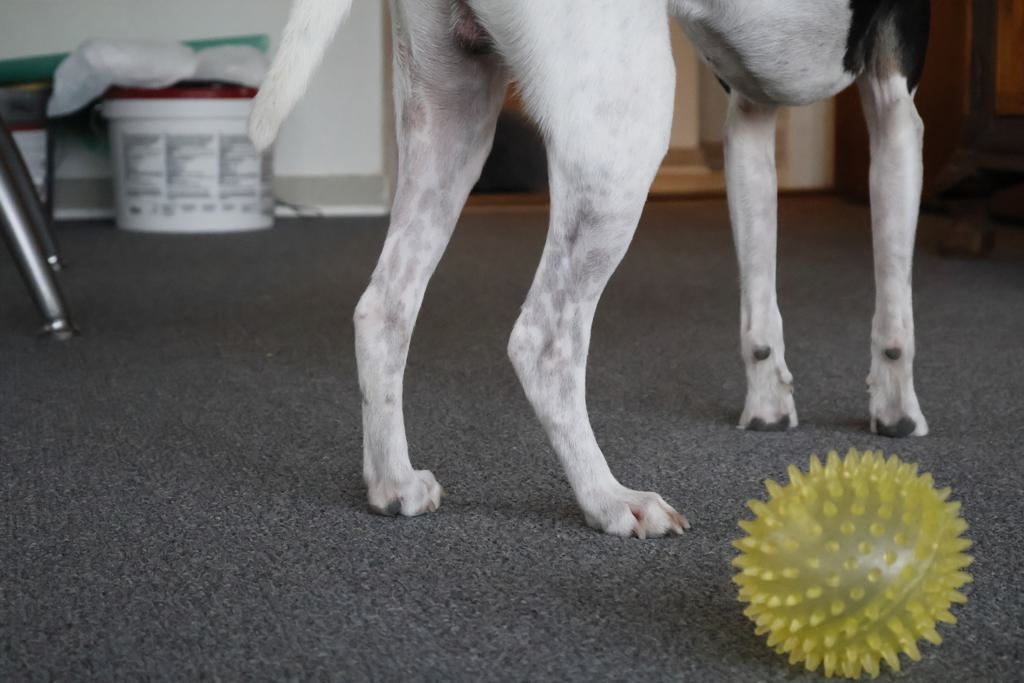Dog: (238, 0, 961, 559)
